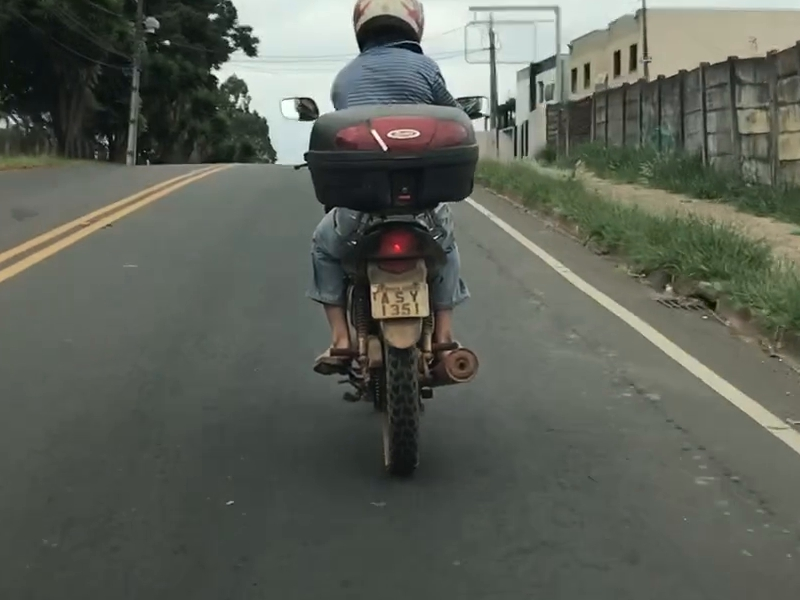placa: (371, 282, 429, 318)
